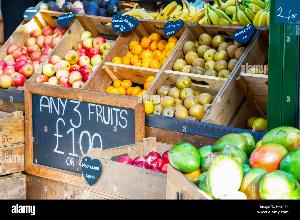banana: (125, 2, 273, 24)
bell_pepper: (38, 20, 110, 86), (0, 20, 58, 84)
mango: (169, 124, 300, 199)
orange: (92, 68, 158, 120), (106, 29, 182, 73)
